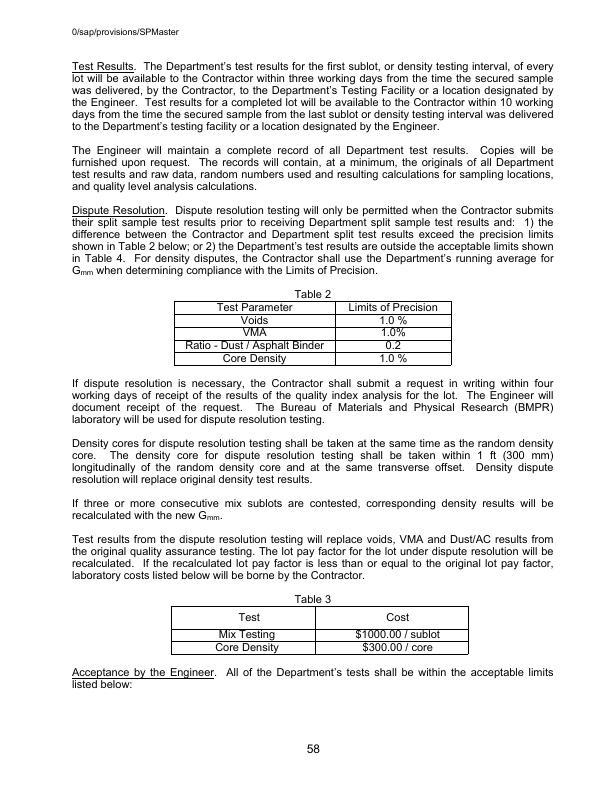table: (170, 298, 455, 369), (169, 605, 473, 656)
text: (67, 203, 560, 278), (68, 58, 558, 133), (69, 141, 562, 193), (67, 376, 558, 428), (69, 437, 563, 486), (70, 532, 558, 581), (67, 665, 560, 694), (68, 497, 559, 524), (294, 593, 332, 607), (293, 285, 333, 298)
